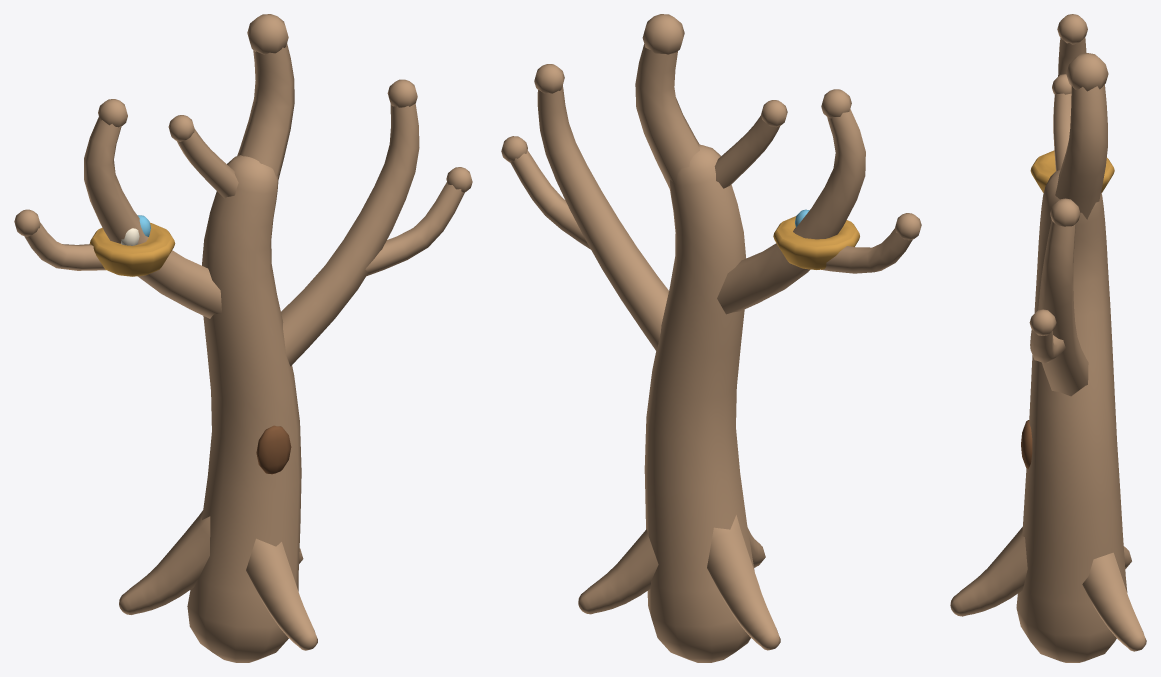
Rendered from dead_tree.glb.
3 renders of one model, left to right at view 1: azimuth 30°, elevation 25°; view 2: azimuth 150°, elevation 25°; view 3: azimuth 270°, elevation 25°, orthographic. The views are drawn at different scales.
Parts seen in each view (by area): view 1: dead_tree; view 2: dead_tree; view 3: dead_tree.
Part boxes in pixels (x1,y1,x2,y2): dead_tree: [14, 14, 472, 662]; dead_tree: [501, 14, 921, 662]; dead_tree: [950, 14, 1146, 662].
Bounding box in the file's own units: 3.33 × 4.62 × 1.33.
